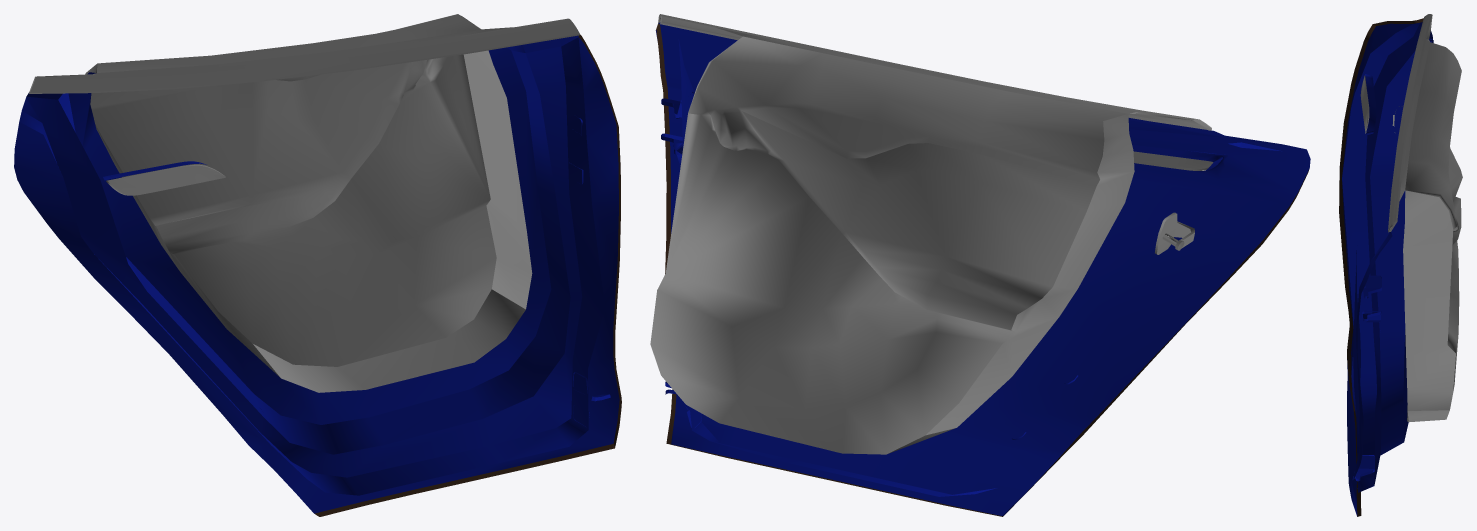
File: Door_RR.obj
3 renders of one model, left to right at view 1: azimuth 30°, elevation 25°; view 2: azimuth 150°, elevation 25°; view 3: azimuth 270°, elevation 25°, orthographic. The views are drawn at different scales.
Parts seen in each view (by area): view 1: Door_RR; view 2: Door_RR; view 3: Door_RR.
Boxes of the visible parts, box(x1,y1,x2,y2) form: Door_RR: box(14, 14, 621, 516); Door_RR: box(650, 14, 1310, 516); Door_RR: box(1339, 14, 1462, 516).
Bounding box in the file's own units: 1.09 × 0.8123 × 0.2823.
